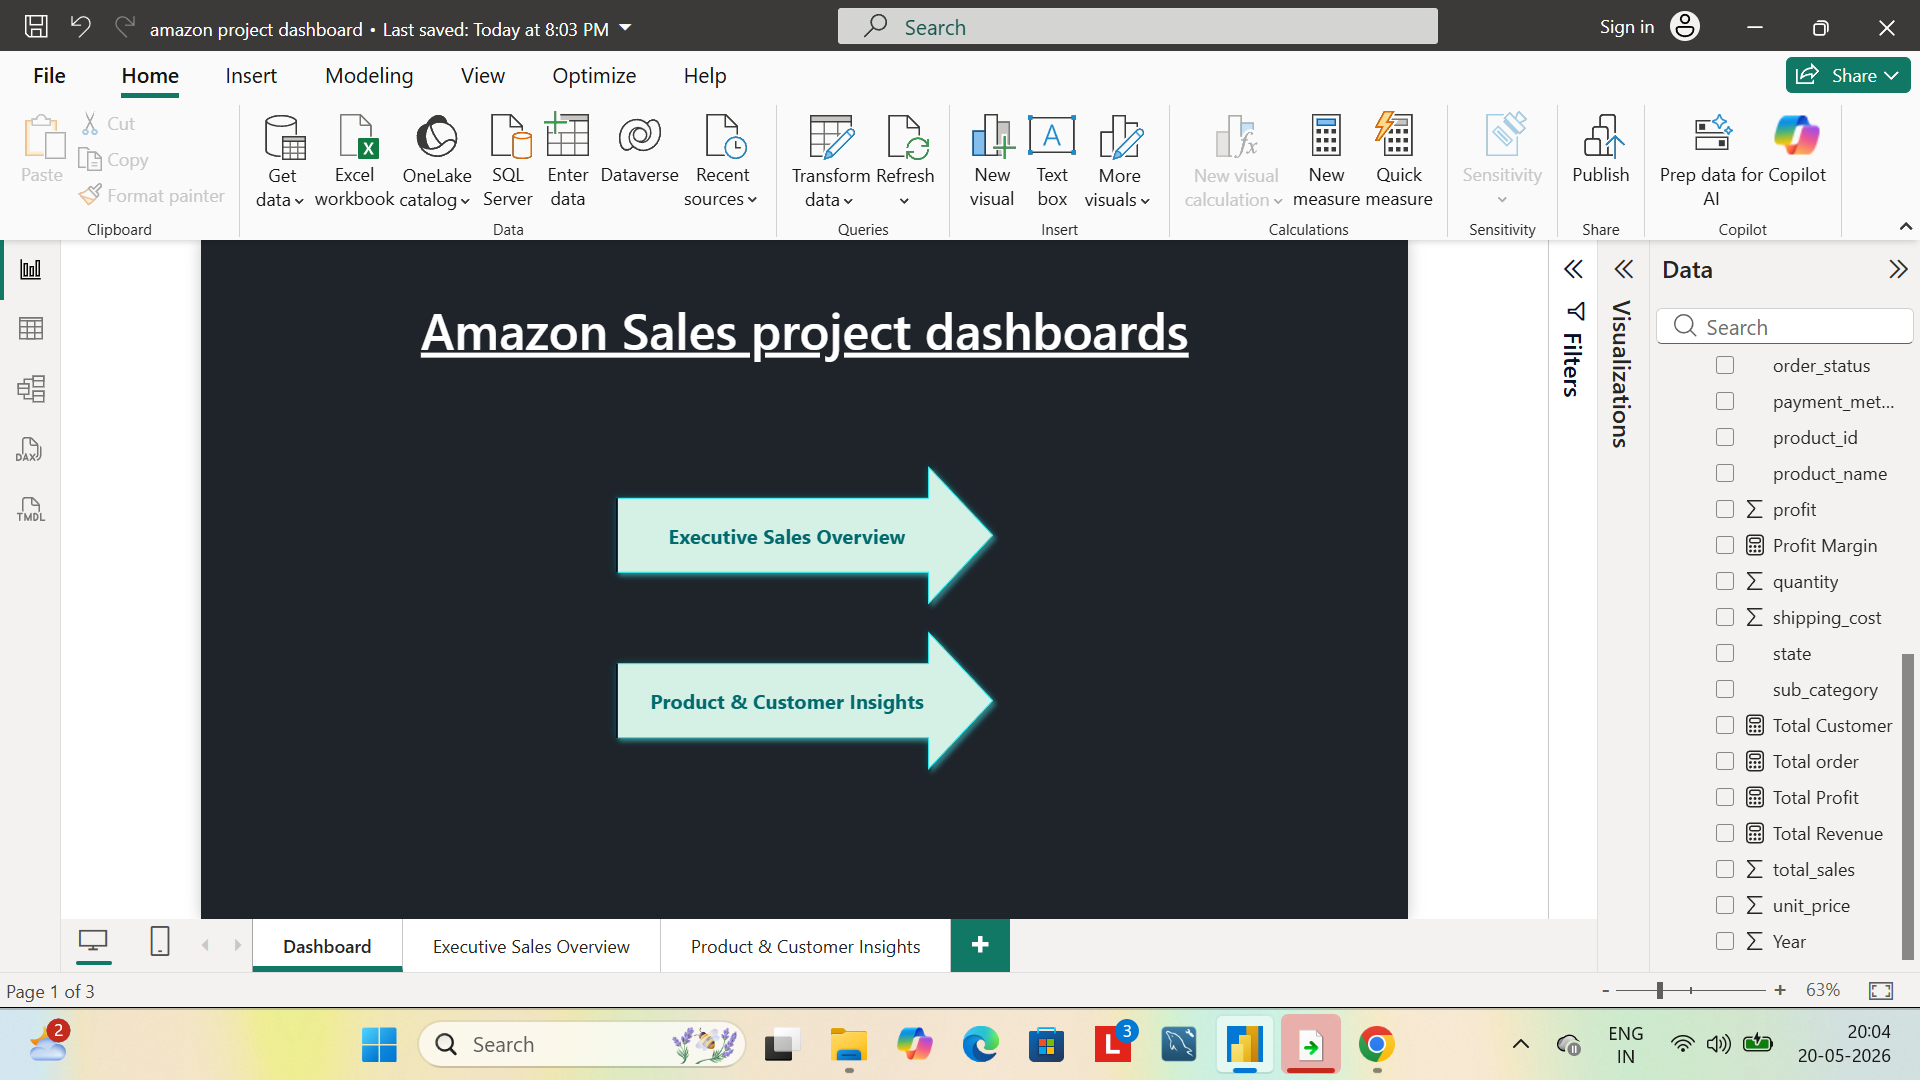

What the dashboard file says about the page in this screenshot:
{"tool":"powerbi","page":{"name":"Dashboard","canvas":[1280,720],"ordinal":0},"visuals":[{"type":"textbox","box":[0,54.1,1280.4,120.9],"z":0},{"type":"pageNavigator","box":[431.1,230.6,418.3,340.4],"z":1}]}

Visuals, with their boxes on the page's 1280x720 design canvas (x1, y1, x2, y2). These are canvas units, not pixel positions in the 1920x1080 screenshot, which may show the page scaled, cropped or inside an application window:
textbox: [0,54,1280,175]
pageNavigator: [431,231,849,571]
